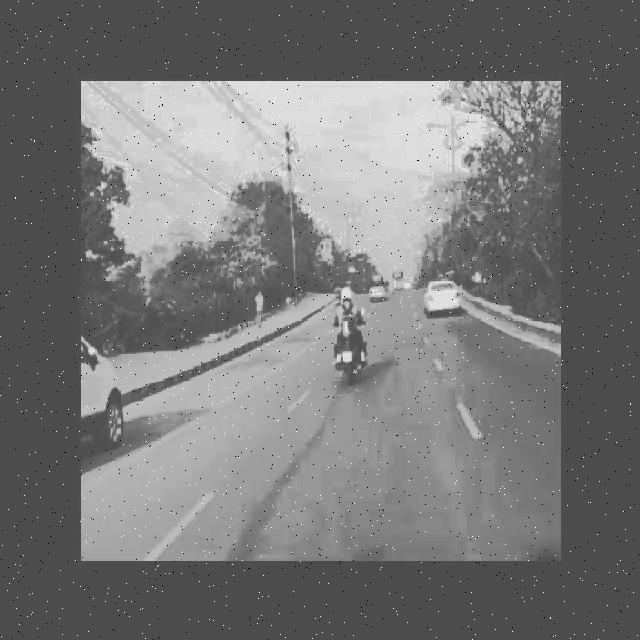Car: (78, 332, 128, 463), (422, 271, 469, 316)
